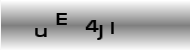4: (84, 19, 99, 33)
E: (54, 12, 68, 26)
J: (95, 23, 104, 41)
l: (109, 21, 115, 35)
u: (33, 26, 48, 38)
